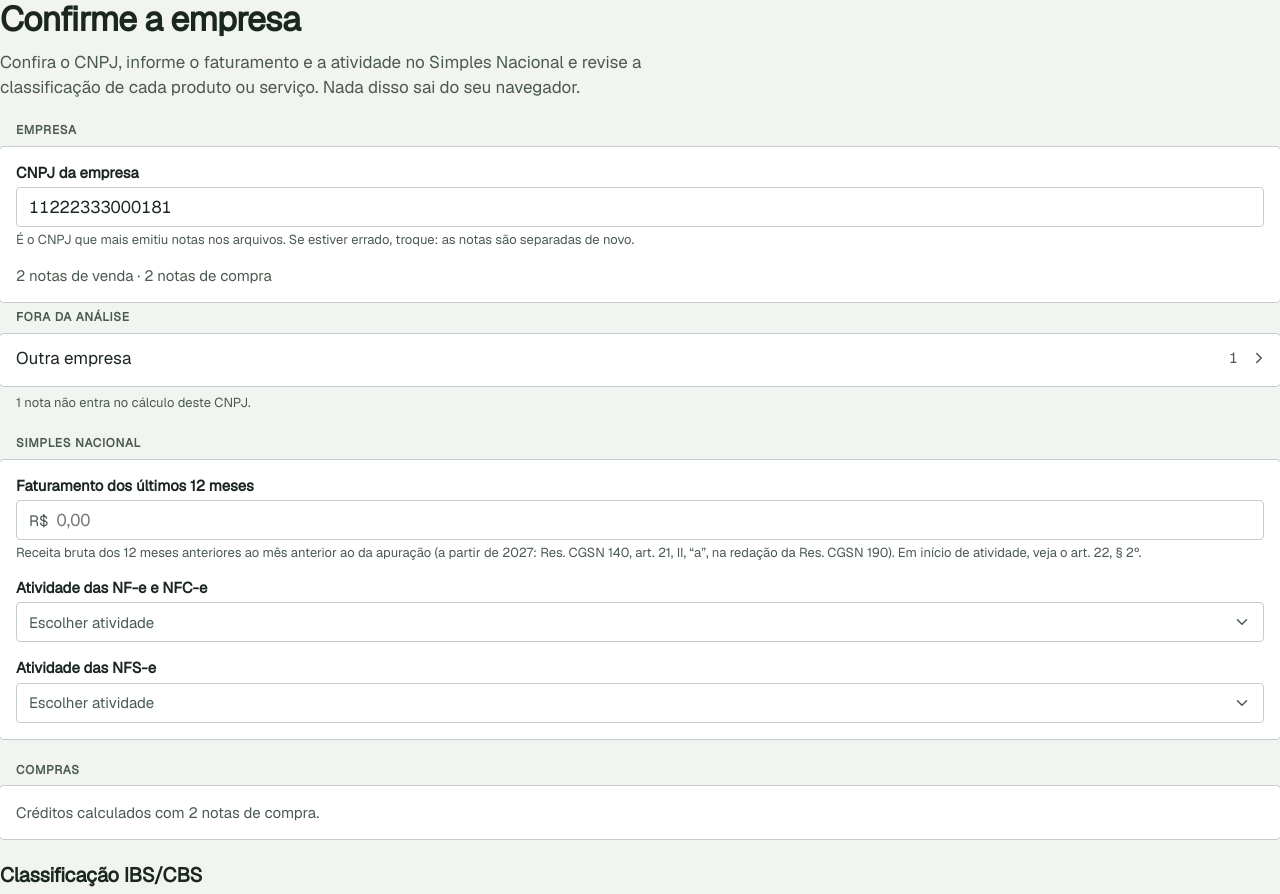
Test: Confirmar — atividade do Simples › escolher a atividade fecha o seletor e mostra o escolhido no botão
The image size is (1280, 894).
What coordinates should you click on to do the following:
click the button named "Atividade das NF-e e NFC-e"
I would click on:
 (92, 622)
Its box is [16,602,1264,642].
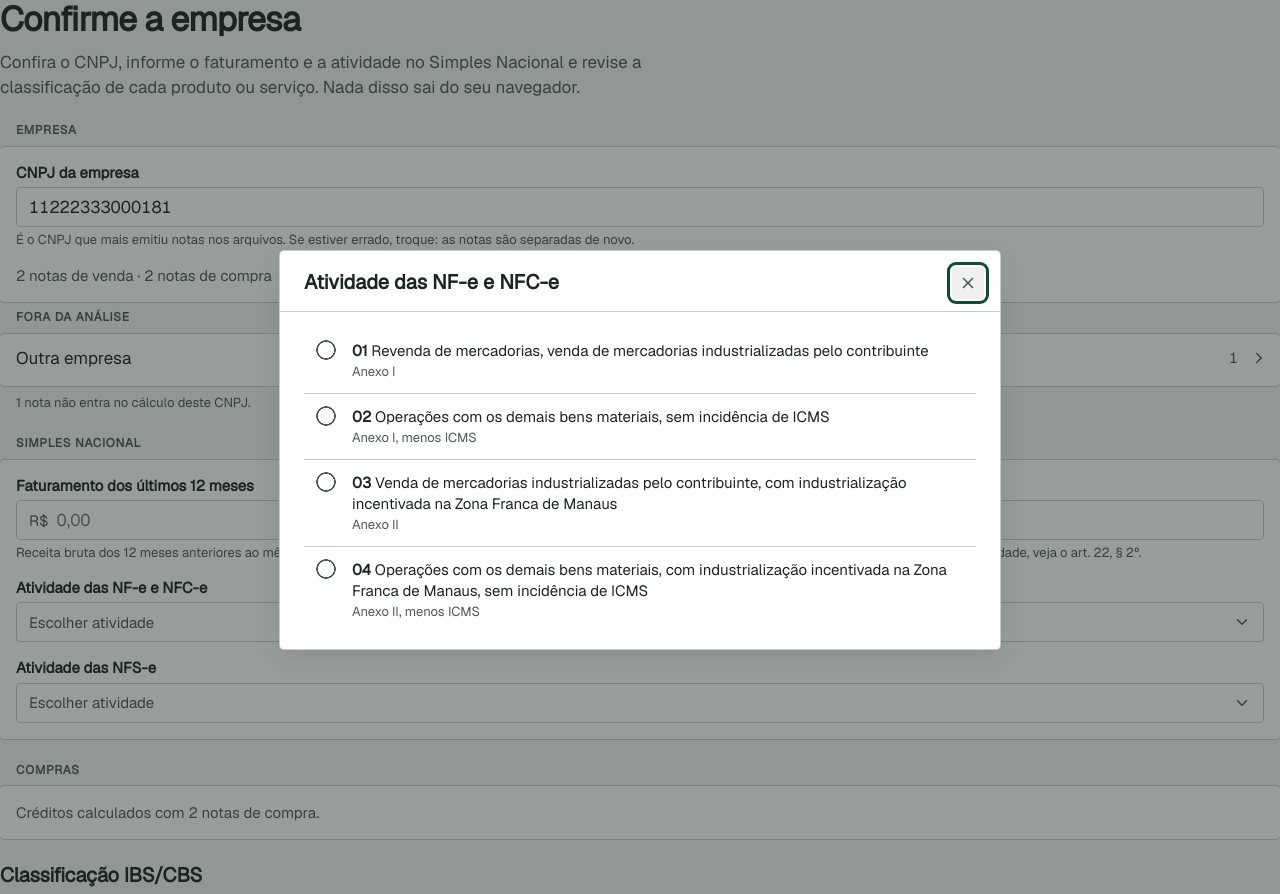
What coordinates should you click on to do the following:
click the radio button labelled "01 "
I would click on:
 (326, 350)
Its box is [304,328,348,372].
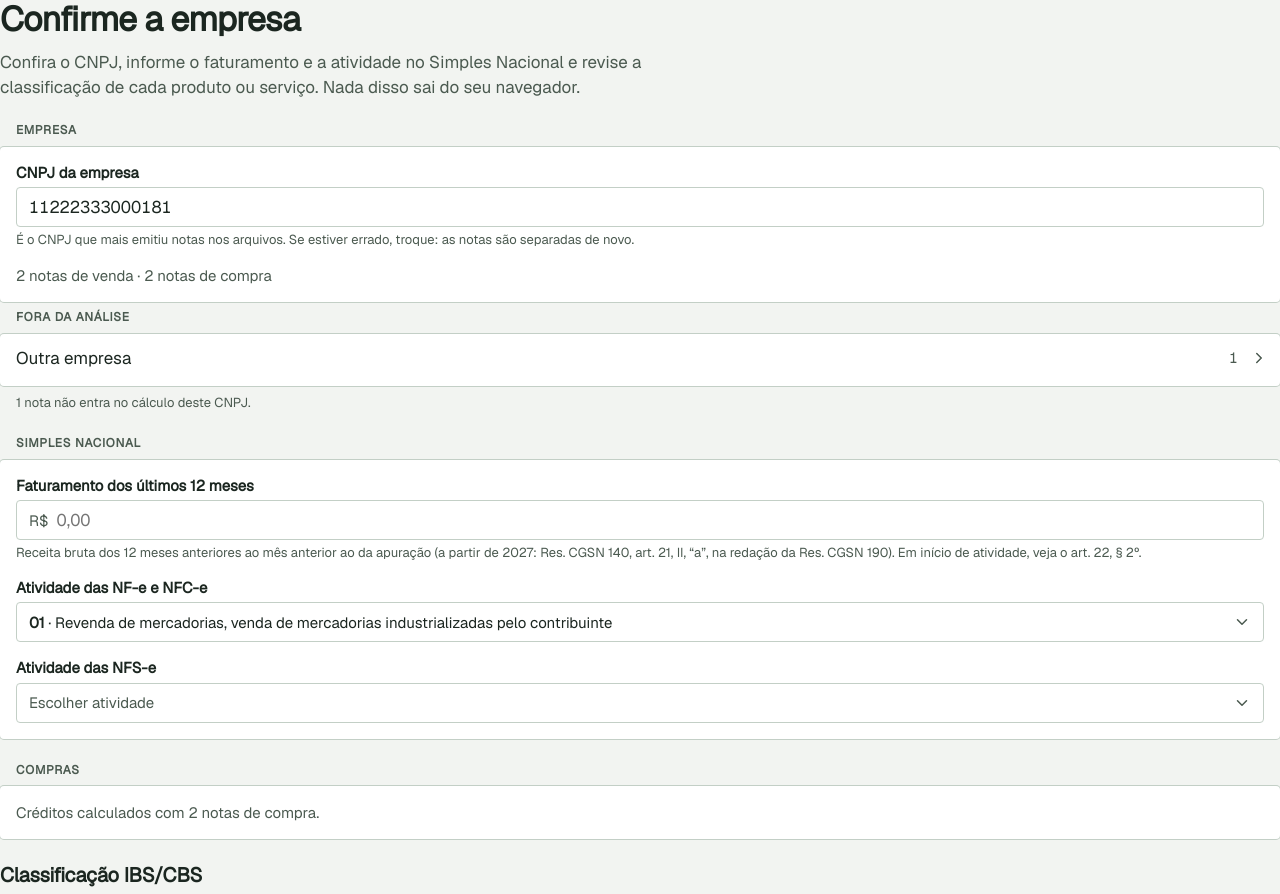
expect the button "Revenda de mercadorias, venda de mercadorias industrializada" is shown: met, box [16,602,1264,642]
expect the dialog is gone: met
